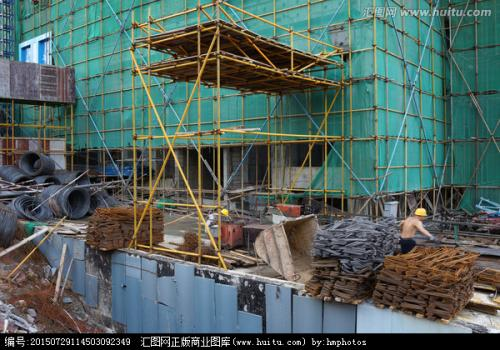gloves: (429, 235, 441, 244)
hard-hat: (414, 207, 427, 215)
person: (397, 207, 440, 254)
